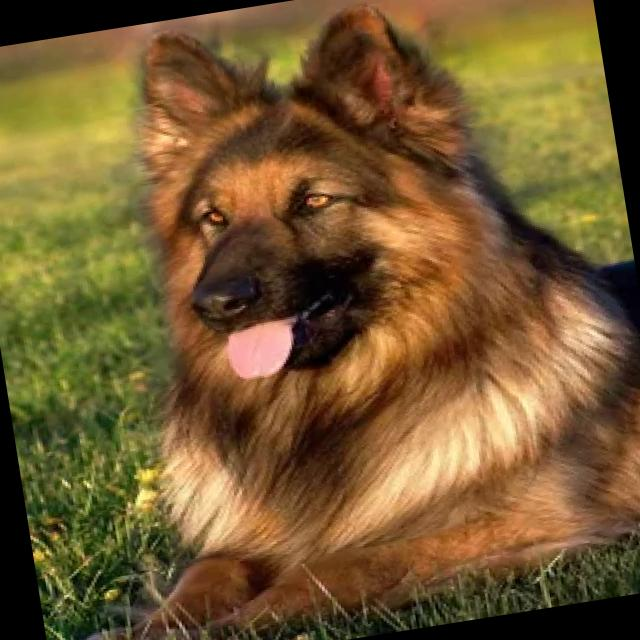Dog: (79, 0, 524, 640)
